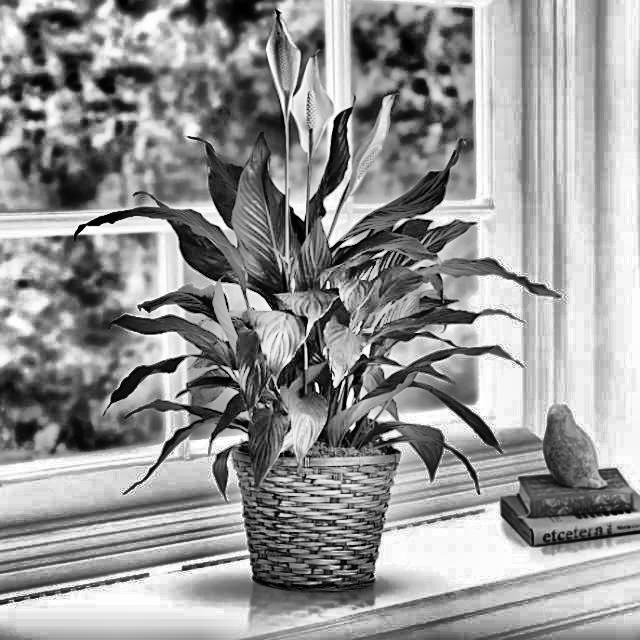plants: (81, 14, 508, 590)
